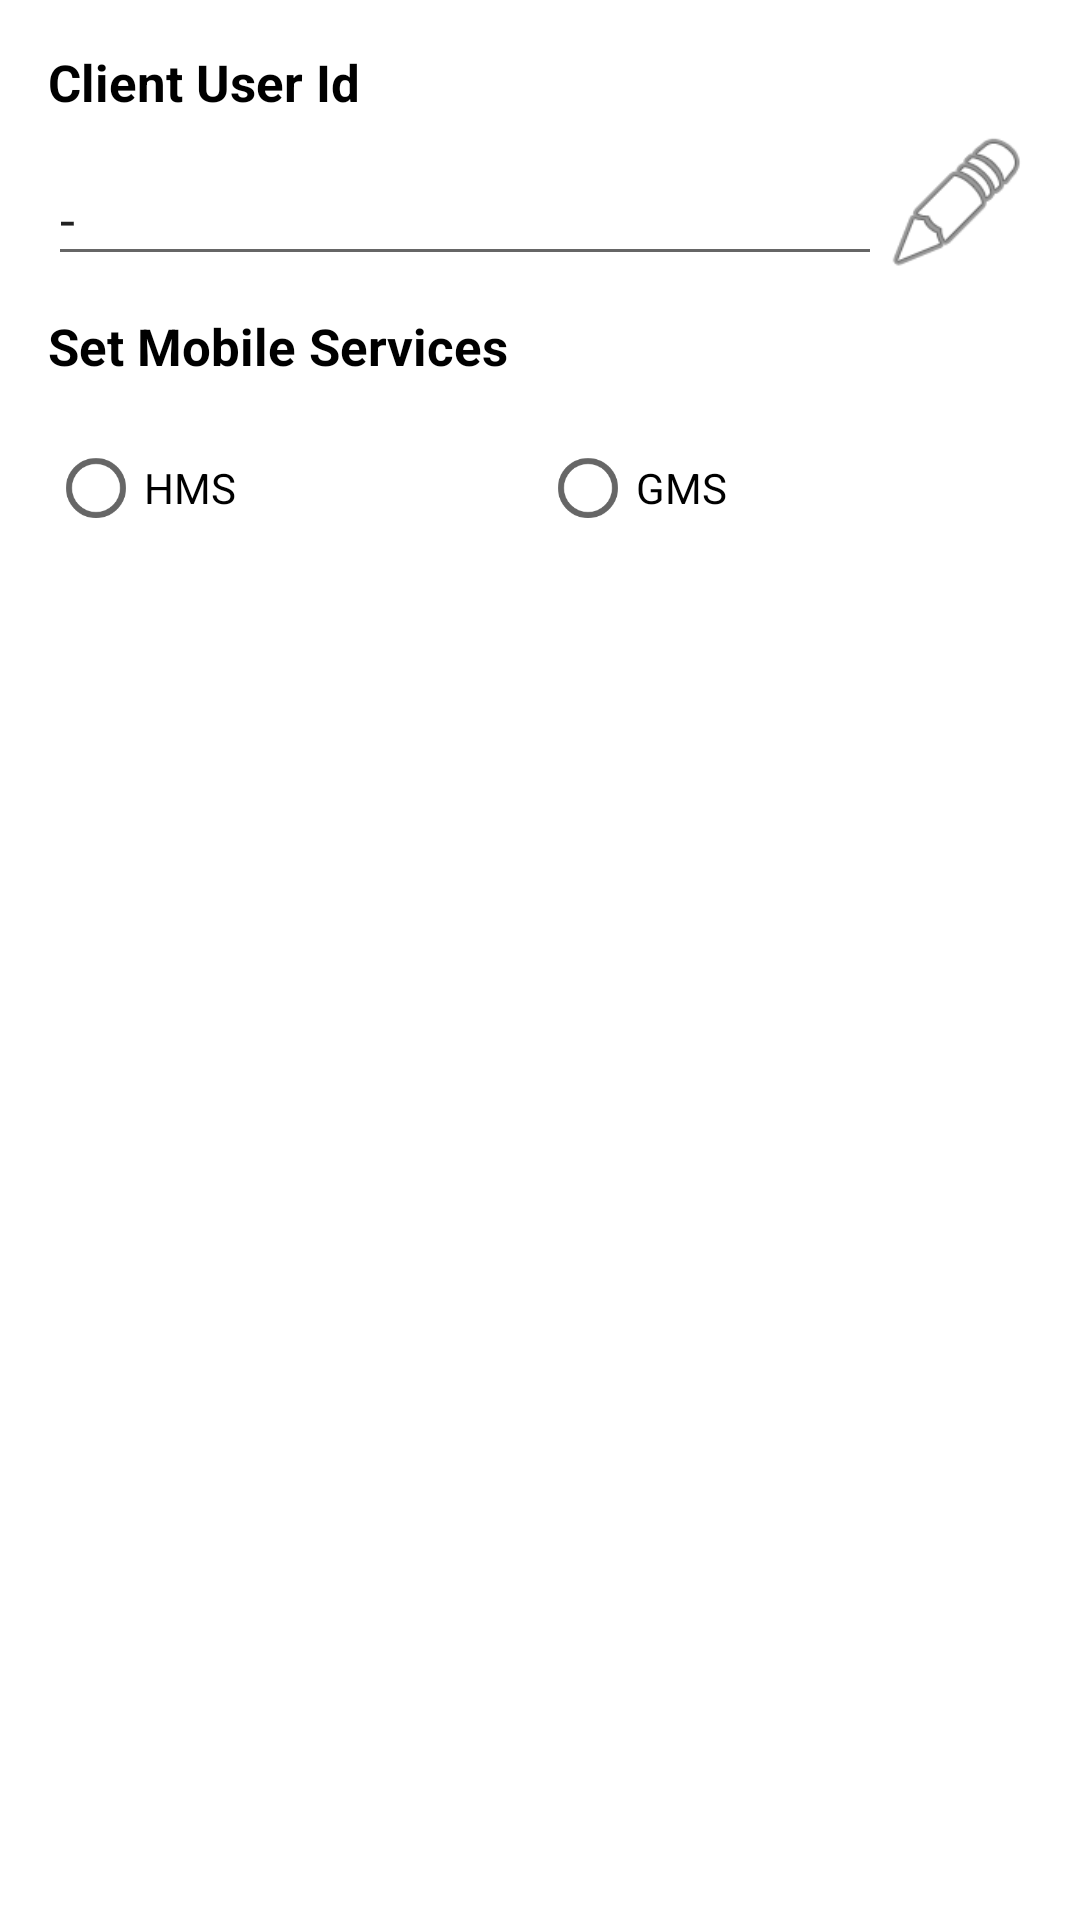

Icons on this 1080w x 1920h Android screen, each with its box as {"x1": x1, "y1": y1, "x2": x2, "y2": y2}:
edit: {"x1": 893, "y1": 138, "x2": 1020, "y2": 266}
